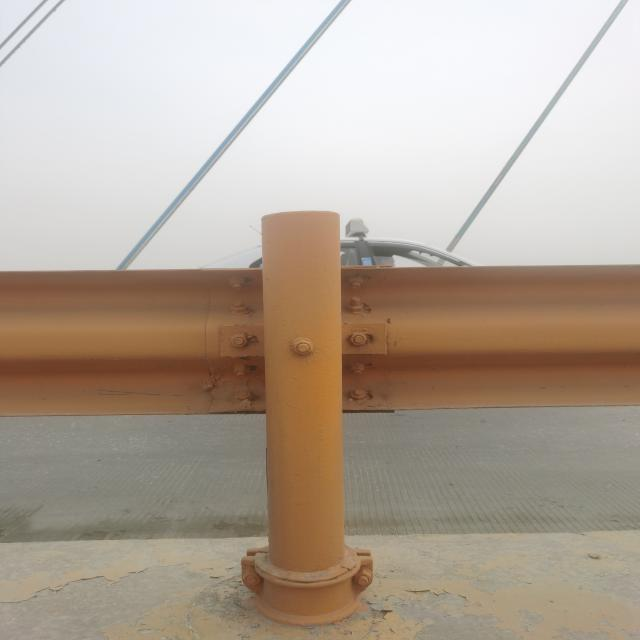bolt nut: (292, 339, 314, 357), (347, 332, 369, 348), (229, 334, 249, 348), (233, 389, 254, 402), (228, 276, 246, 290), (346, 300, 364, 314), (229, 301, 247, 314), (348, 363, 366, 376), (349, 388, 367, 401), (348, 276, 366, 289), (232, 365, 251, 377)
